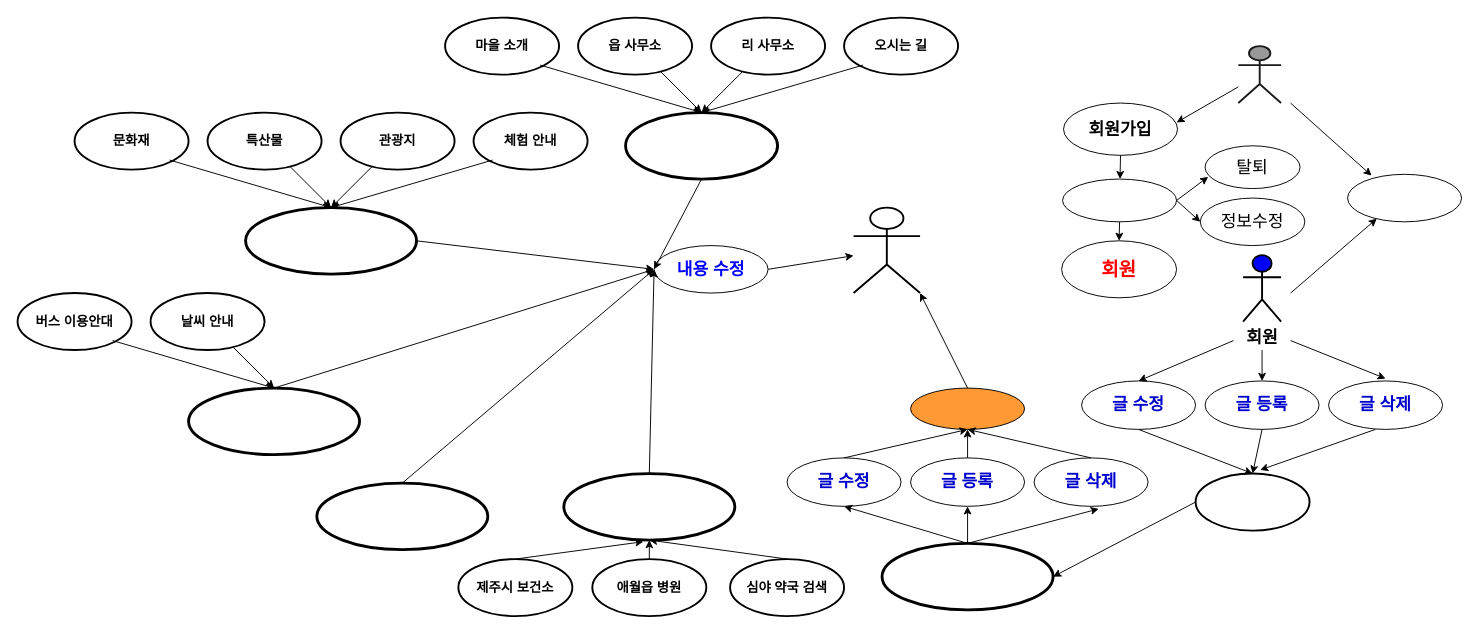
Image size: 1478x633. Some labels were removed from this diagram. Each missing label, with the centre of its shape:
공지사항: pixel 967 576
관리자: pixel 886 250
교통,날씨: pixel 274 421
글 관리: pixel 967 408
글 조회: pixel 1404 197
로그인: pixel 1119 200
비회원: pixel 1259 74
여행 가이드: pixel 331 240
우리읍 소개: pixel 701 145
의료기관: pixel 649 506
자유게시판: pixel 1252 501
주민자치센터: pixel 402 516
